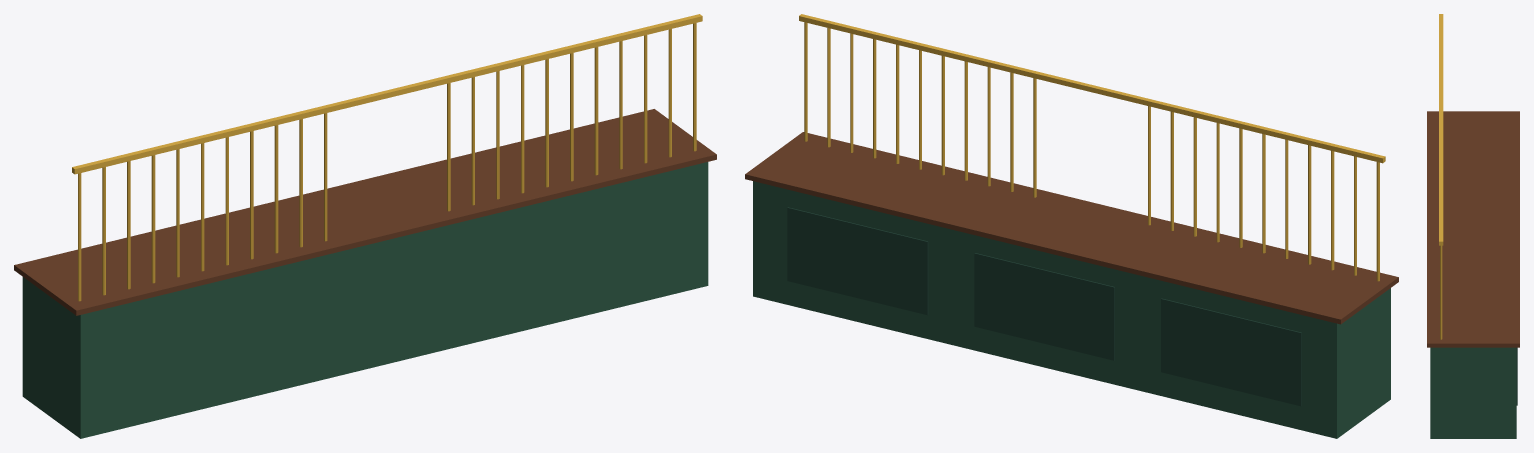
Rendered from pawn_counter.glb.
3 views of the same model, side by side, from view 1: azimuth 30°, elevation 25°; view 2: azimuth 150°, elevation 25°; view 3: azimuth 270°, elevation 25° (orthographic). The views are drawn at different scales.
Parts seen in each view (by area): view 1: body_pawn_counter_green, top_pawn_wood, rail_pawn_brass; view 2: body_pawn_counter_green, top_pawn_wood, panel_pawn_counter_panel (×3), rail_pawn_brass; view 3: top_pawn_wood, body_pawn_counter_green, rail_pawn_brass, bar_pawn_brass, panel_pawn_counter_panel.
Part boxes in pixels (x1=…): body_pawn_counter_green: x1=22, y1=162, x2=708, y2=438; top_pawn_wood: x1=14, y1=109, x2=716, y2=315; rail_pawn_brass: x1=72, y1=14, x2=702, y2=174; body_pawn_counter_green: x1=753, y1=181, x2=1390, y2=438; top_pawn_wood: x1=745, y1=132, x2=1398, y2=324; panel_pawn_counter_panel (×3): x1=787, y1=207, x2=1301, y2=406; rail_pawn_brass: x1=799, y1=14, x2=1385, y2=163; top_pawn_wood: x1=1427, y1=111, x2=1519, y2=347; body_pawn_counter_green: x1=1430, y1=347, x2=1516, y2=438; rail_pawn_brass: x1=1439, y1=14, x2=1443, y2=245; bar_pawn_brass: x1=1440, y1=245, x2=1442, y2=339; panel_pawn_counter_panel: x1=1516, y1=347, x2=1517, y2=405.
Bounding box in the file's own units: 5.1 × 2.02 × 0.86.
